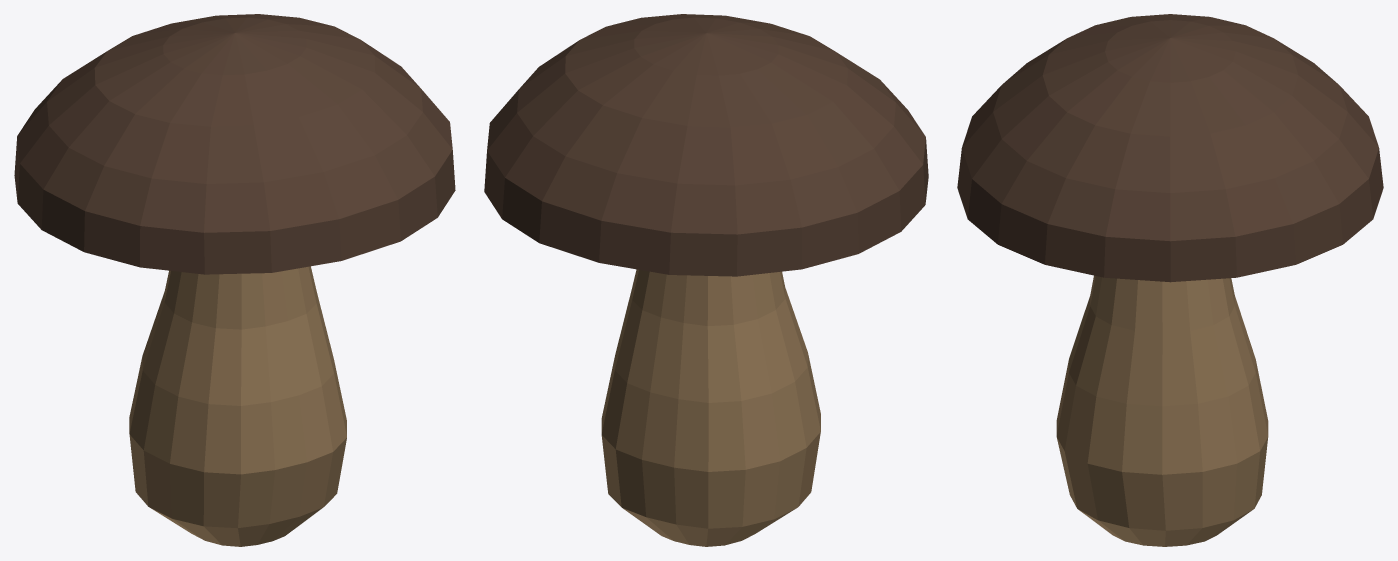
The model's file is Mushrooms.glb.
The picture shows the model from 3 angles, left to right: view 1: azimuth 30°, elevation 25°; view 2: azimuth 150°, elevation 25°; view 3: azimuth 270°, elevation 25°; orthographic projection.
Visible parts, largest first — view 1: Podgrzybek; view 2: Podgrzybek; view 3: Podgrzybek.
Boxes of the visible parts, box(x1,y1,x2,y2) form: Podgrzybek: box(14, 14, 455, 546); Podgrzybek: box(484, 14, 928, 546); Podgrzybek: box(957, 14, 1383, 546).
Size of the model in its own units: 0.1707 by 0.2057 by 0.1631.
